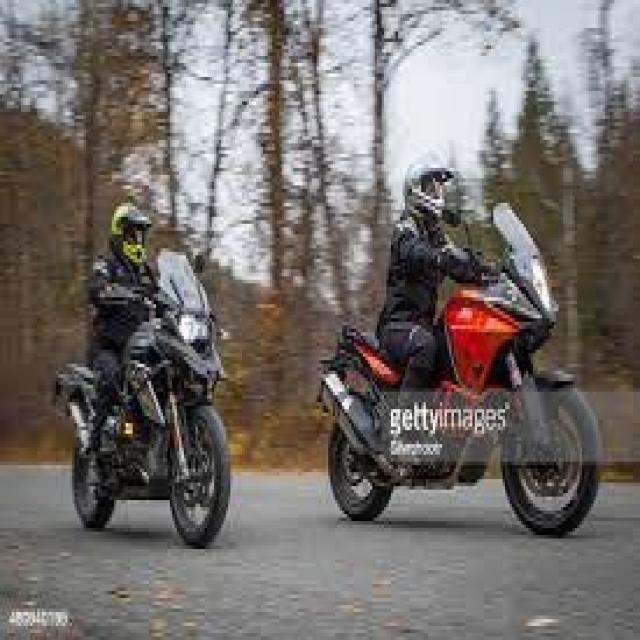bike: (310, 188, 606, 543), (40, 246, 238, 551)
